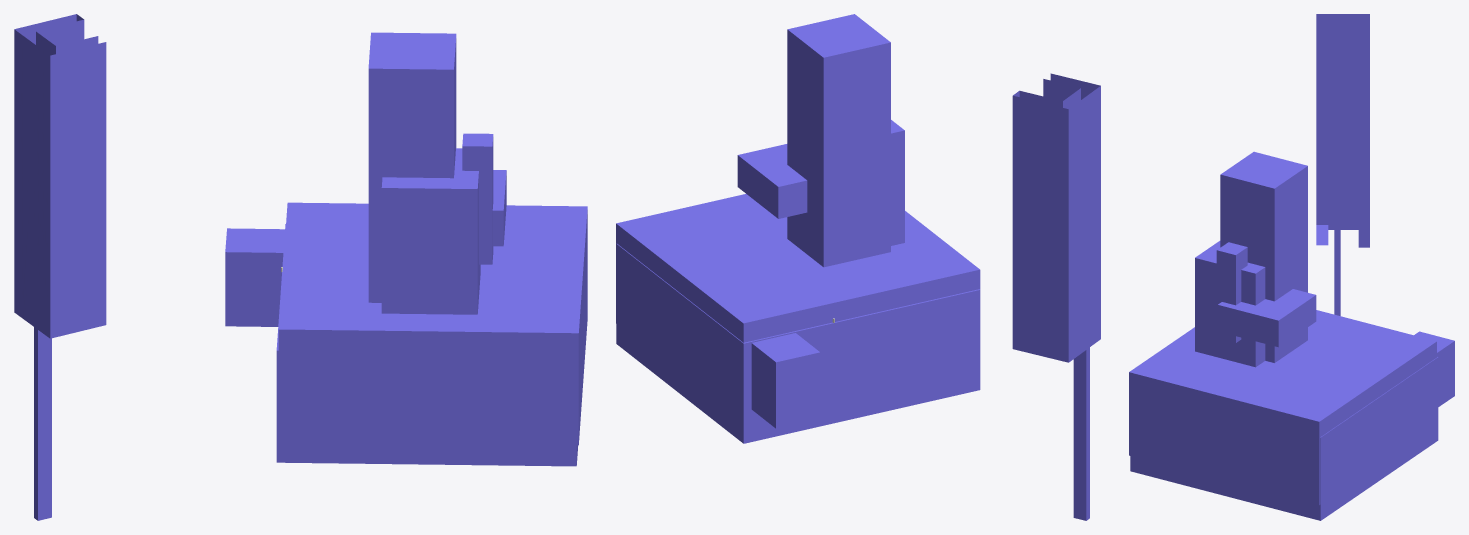
3 renders of one model, left to right at view 1: azimuth 30°, elevation 25°; view 2: azimuth 150°, elevation 25°; view 3: azimuth 270°, elevation 25°, orthographic. The views are drawn at different scales.
Parts seen in each view (by area): view 1: Cube, Hallway; view 2: Cube, Hallway; view 3: Cube, Hallway.
Part boxes in pixels (x1,y1,x2,y2): Cube: (225, 32, 587, 466); Hallway: (14, 14, 106, 520); Cube: (616, 14, 980, 443); Hallway: (1012, 73, 1100, 520); Cube: (1129, 151, 1454, 520); Hallway: (1316, 14, 1369, 315).
Size of the model in its own units: 384 by 323 by 270.
